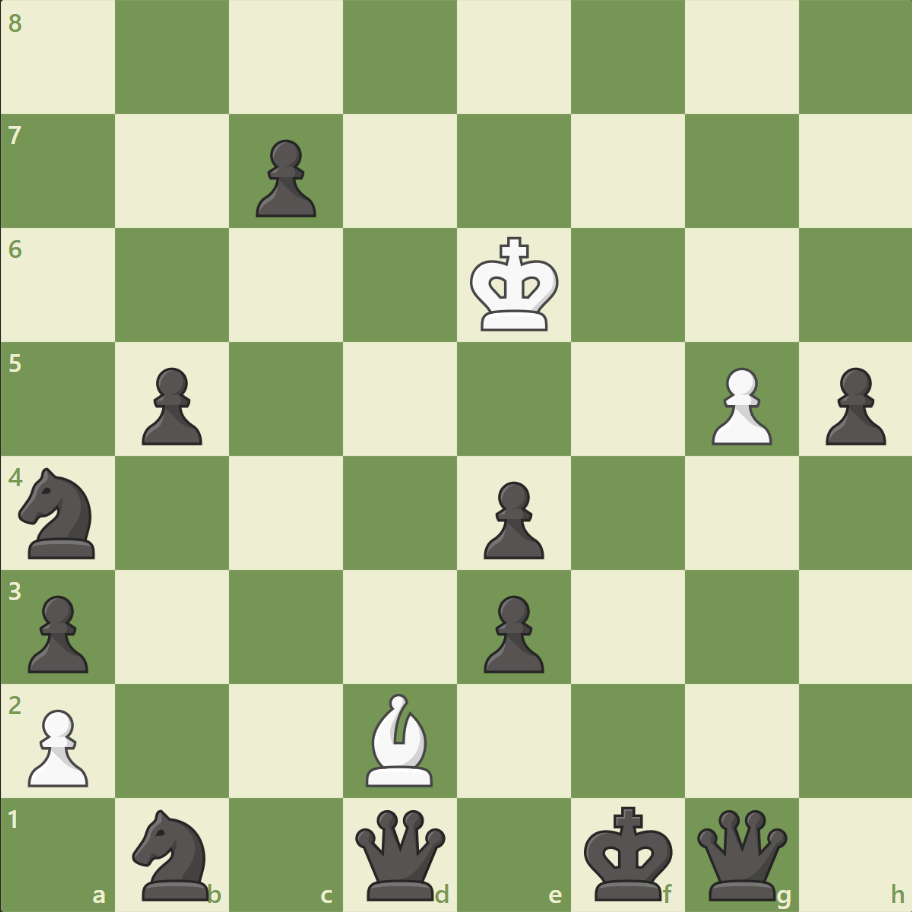B: (358, 687, 442, 790)
K: (465, 231, 565, 339)
P: (701, 359, 776, 450), (20, 700, 95, 791)
k: (579, 798, 679, 906)
n: (124, 802, 222, 904), (11, 461, 108, 564)
p: (247, 132, 322, 223), (133, 359, 208, 450), (474, 473, 549, 564), (20, 586, 95, 677), (474, 586, 549, 677), (815, 359, 889, 450)
q: (351, 804, 450, 903), (691, 804, 790, 903)
